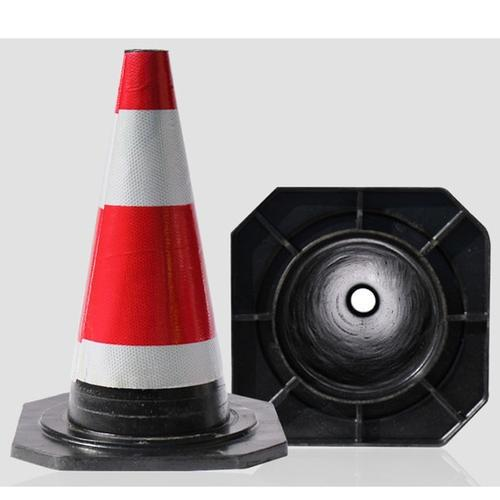cone_barrel: (53, 53, 242, 452)
